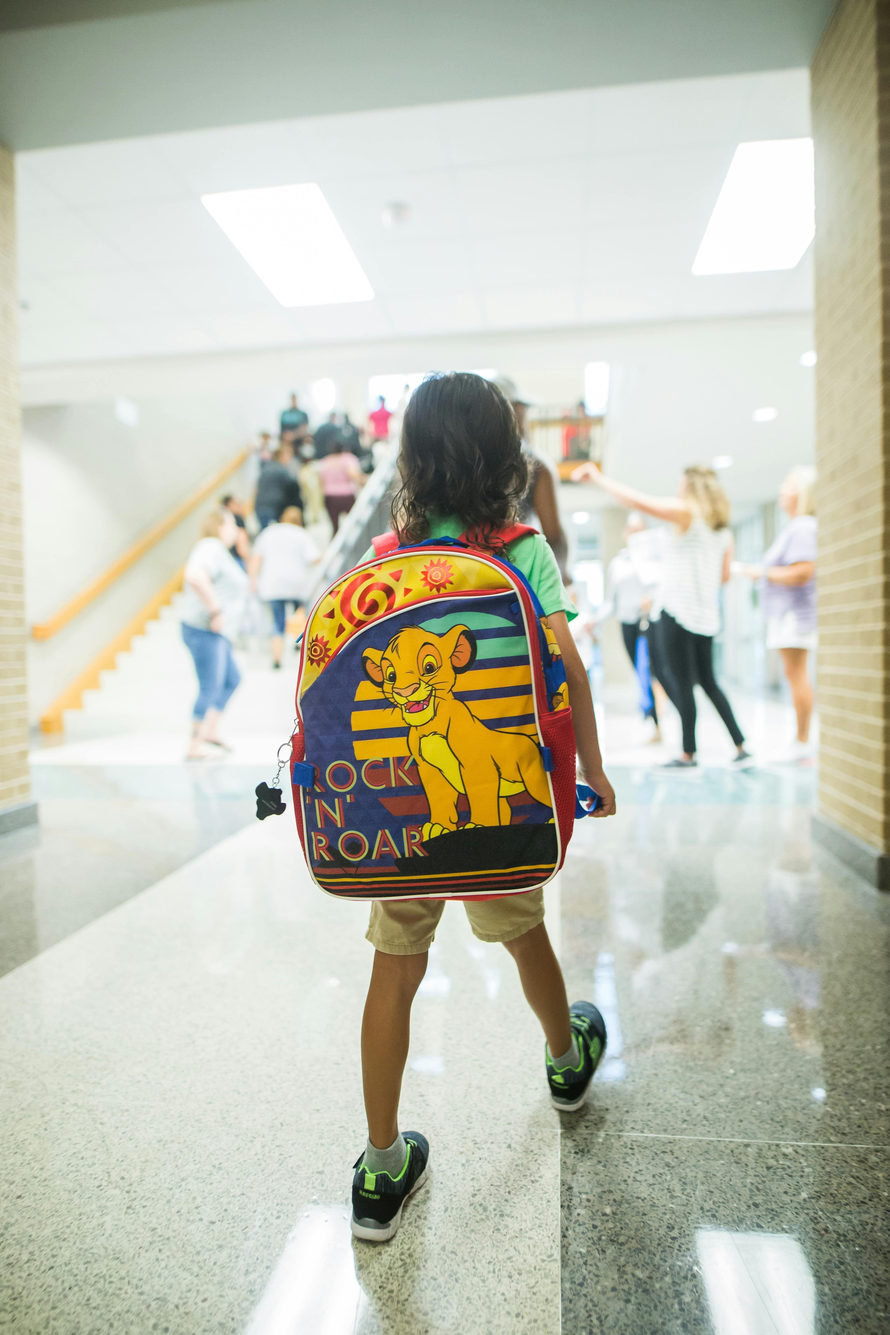Human: (245, 286, 672, 1214)
